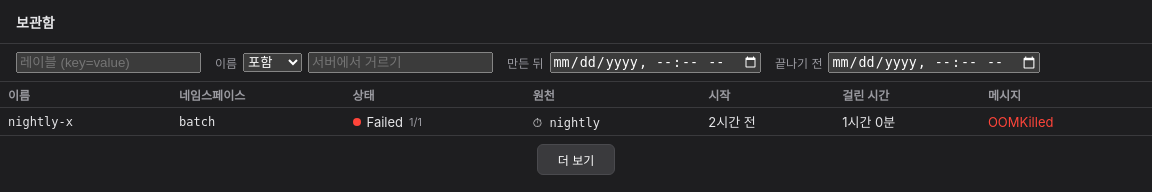
Scenario: ArchiveList › 서버 조건과 다음 페이지를 보낸다
The width and height of the screenshot is (1152, 192).
Expected: the row "nightly-x batch Failed 1/1 ⏱ nightly 2시간 전 1시간 0분 OOMKilled" is shown, [0, 108, 1151, 136]
Type "team=ops" into the field named "레이블 선택자" at (108, 63), box [16, 52, 201, 73]
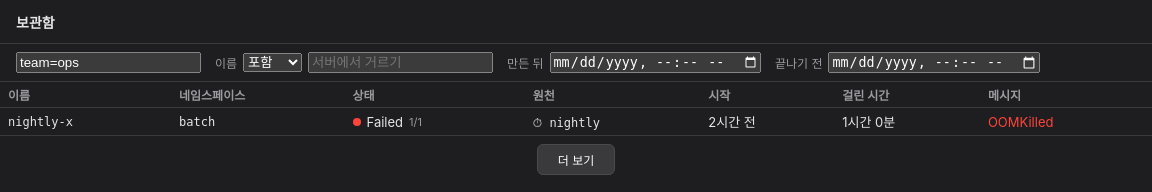
Click the button "더 보기" at (576, 160), box [537, 144, 615, 175]
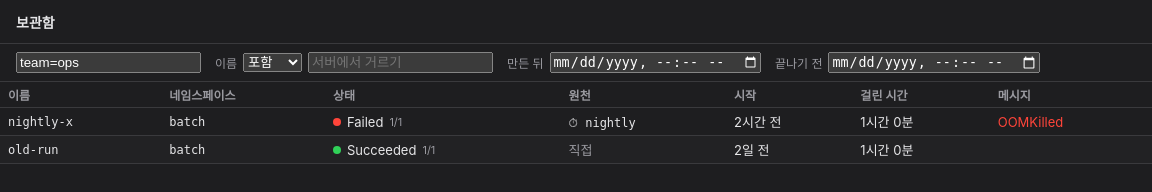
Now the row "old-run batch Succeeded 1/1 직접 2일 전 1시간 0분" is shown, box [0, 136, 1151, 164]
